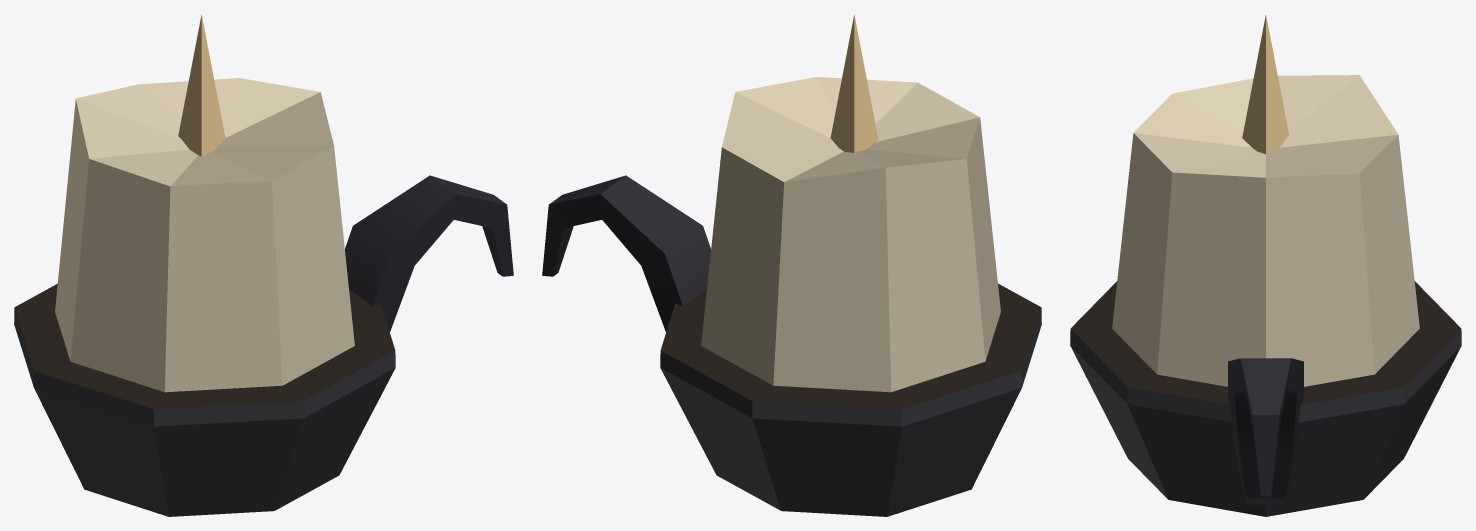
File: CandleStick_2.fbx
3 views of the same model, side by side, from view 1: azimuth 30°, elevation 25°; view 2: azimuth 150°, elevation 25°; view 3: azimuth 270°, elevation 25° (orthographic).
Parts seen in each view (by area): view 1: polySurface2435; view 2: polySurface2435; view 3: polySurface2435.
Boxes of the visible parts, left/top/right/bottom form: polySurface2435: left=14, top=15, right=513, bottom=516; polySurface2435: left=542, top=15, right=1041, bottom=516; polySurface2435: left=1070, top=15, right=1461, bottom=516.
Size of the model in its own units: 30.98 by 27.72 by 22.21.
